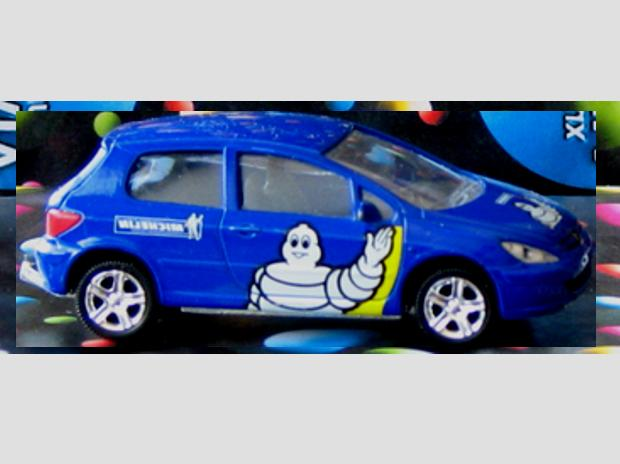toy-car: (16, 111, 596, 347)
